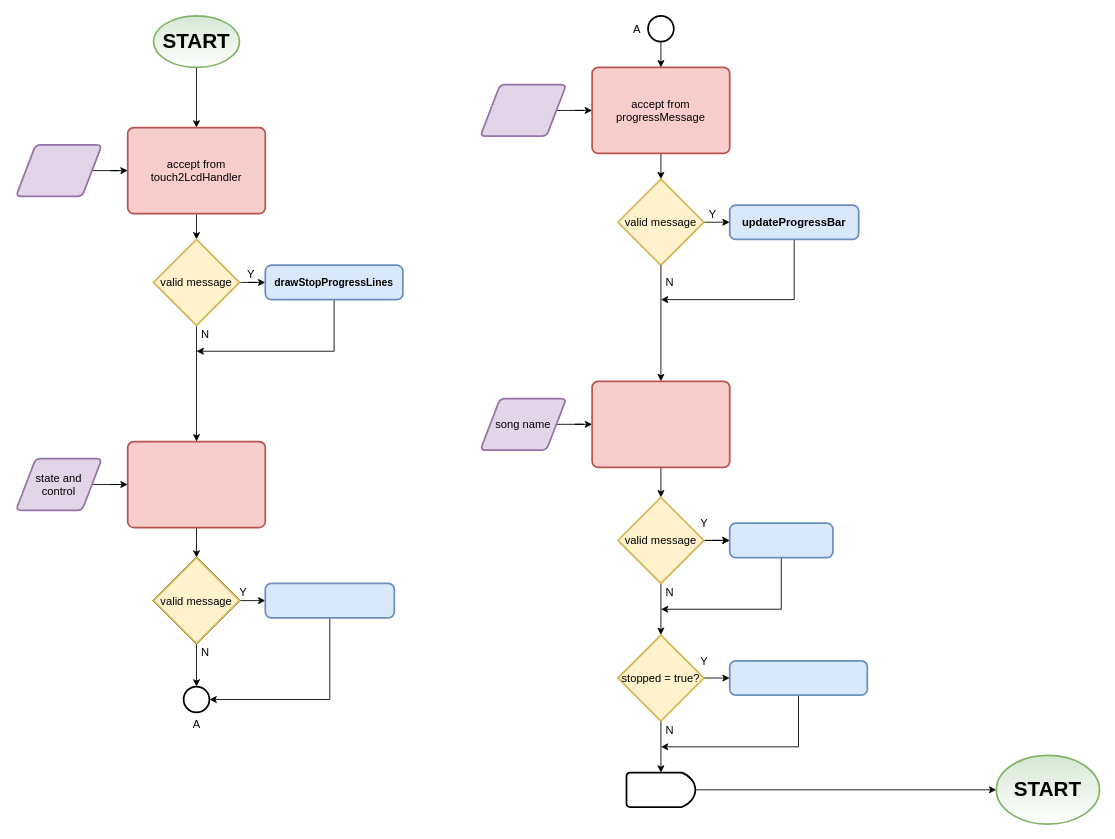
Image size: 1115x839. Some labels were removed from this diagram. Here are the shapes that lost their labels. From the top down, the centre of each, then its label:
At (x=523, y=110): "song progress".
At (x=58, y=170): "stopProgress".
At (x=660, y=424): "accept from stream2LcdHandler".
At (x=196, y=484): "accept from cmdHandler2LcdHandler".
At (x=780, y=540): "updateTrackName".
At (x=329, y=600): "updateState".
At (x=798, y=678): "eraseStopProgressLines".
At (x=660, y=789): "delay".
